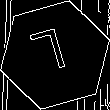L_S: (33, 26, 77, 84)
